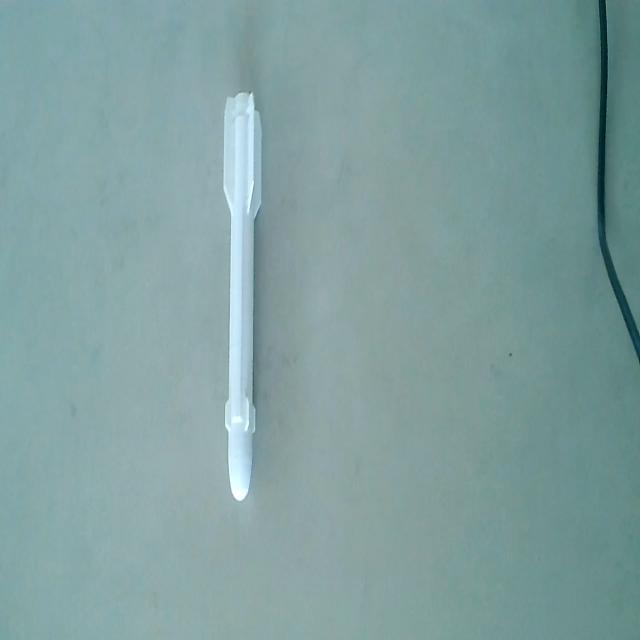Rocket: (216, 88, 262, 509)
